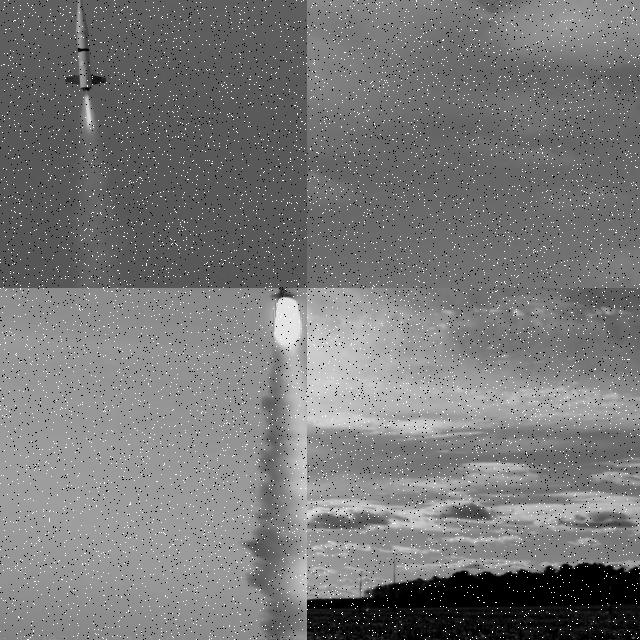Rocket: (65, 0, 108, 91), (607, 584, 613, 607)
